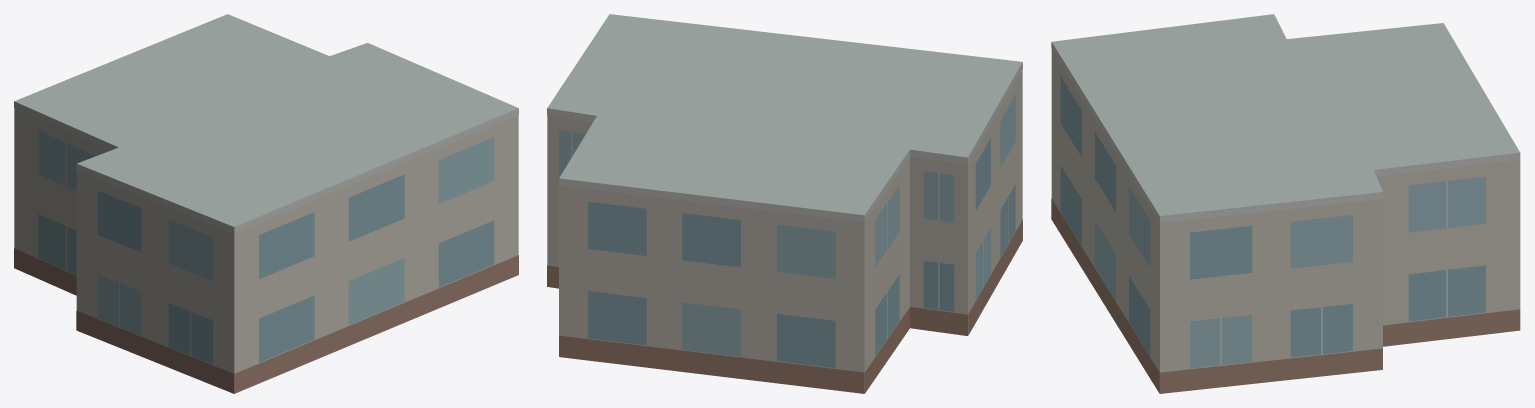
The model's file is survey-upis-32721330.glb.
3 views of the same model, side by side, from view 1: azimuth 30°, elevation 25°; view 2: azimuth 150°, elevation 25°; view 3: azimuth 270°, elevation 25° (orthographic). The views are drawn at different scales.
Parts seen in each view (by area): view 1: survey-upis-32721330.tmp; view 2: survey-upis-32721330.tmp; view 3: survey-upis-32721330.tmp.
Part boxes in pixels (bbox=[...]): survey-upis-32721330.tmp: bbox=[14, 14, 518, 393]; survey-upis-32721330.tmp: bbox=[547, 14, 1022, 393]; survey-upis-32721330.tmp: bbox=[1051, 14, 1520, 393].
Bounding box in the file's own units: 14.88 × 6.1 × 14.58.
